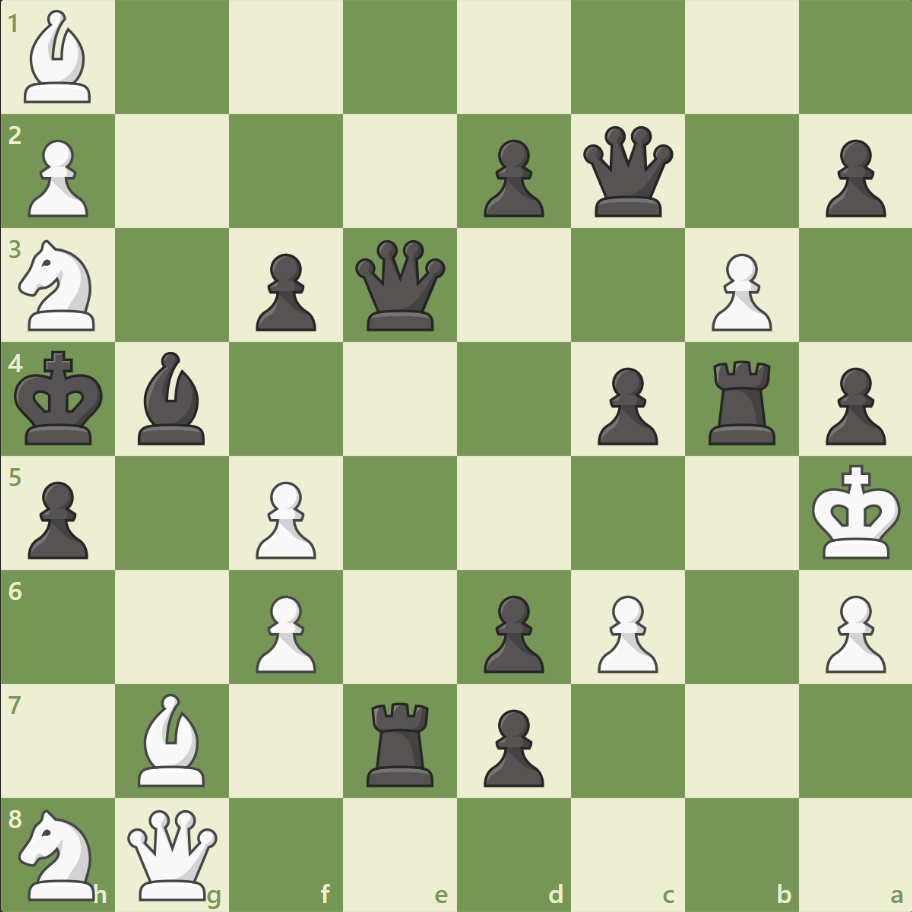B: (131, 687, 215, 790), (17, 6, 101, 109)
K: (806, 458, 906, 566)
N: (11, 234, 108, 337), (11, 802, 108, 904)
P: (247, 586, 322, 677), (247, 473, 322, 564), (701, 246, 776, 337), (20, 132, 95, 223), (815, 586, 889, 677), (588, 586, 662, 677)
Q: (124, 804, 223, 903)
b: (131, 347, 215, 449)
k: (11, 344, 111, 452)
p: (474, 700, 549, 791), (474, 586, 549, 677), (20, 473, 95, 564), (247, 246, 322, 337), (474, 132, 549, 223), (815, 359, 889, 450), (588, 359, 662, 450), (815, 132, 889, 223)
q: (578, 122, 677, 222), (351, 236, 450, 335)
r: (700, 352, 783, 449), (360, 693, 442, 790)
